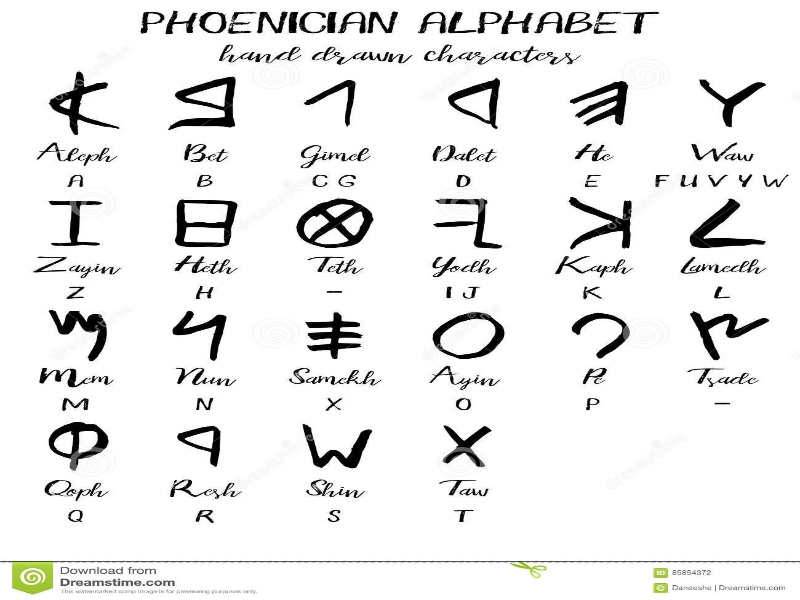letter: (636, 164, 685, 199), (183, 508, 236, 539), (571, 394, 625, 422), (298, 174, 373, 194), (317, 394, 364, 422), (53, 395, 108, 417), (760, 163, 790, 197), (183, 395, 231, 416), (447, 504, 483, 532), (183, 172, 228, 192), (706, 283, 739, 310), (321, 505, 358, 529), (59, 508, 99, 530), (448, 173, 487, 194), (575, 284, 606, 308), (449, 392, 481, 414), (190, 283, 217, 309), (583, 169, 606, 197), (677, 173, 701, 197), (67, 282, 88, 308), (59, 176, 95, 191), (707, 168, 726, 194), (435, 280, 460, 299), (456, 286, 487, 300)
